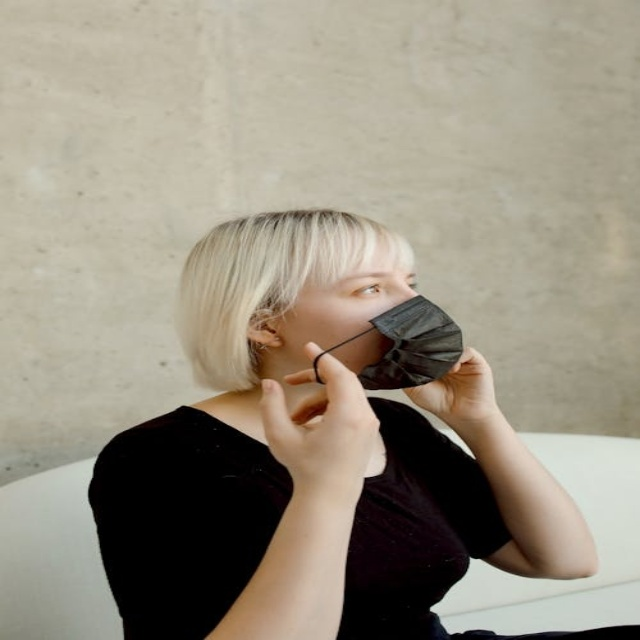Mascara: (315, 295, 464, 390)
Sin_gafas: (354, 283, 382, 296), (408, 281, 419, 289)
Sin_guantes: (252, 335, 404, 480), (403, 341, 508, 418)
